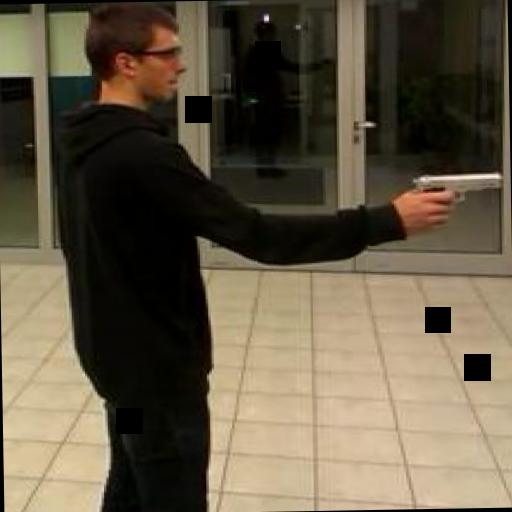Handgun: (406, 166, 504, 229)
